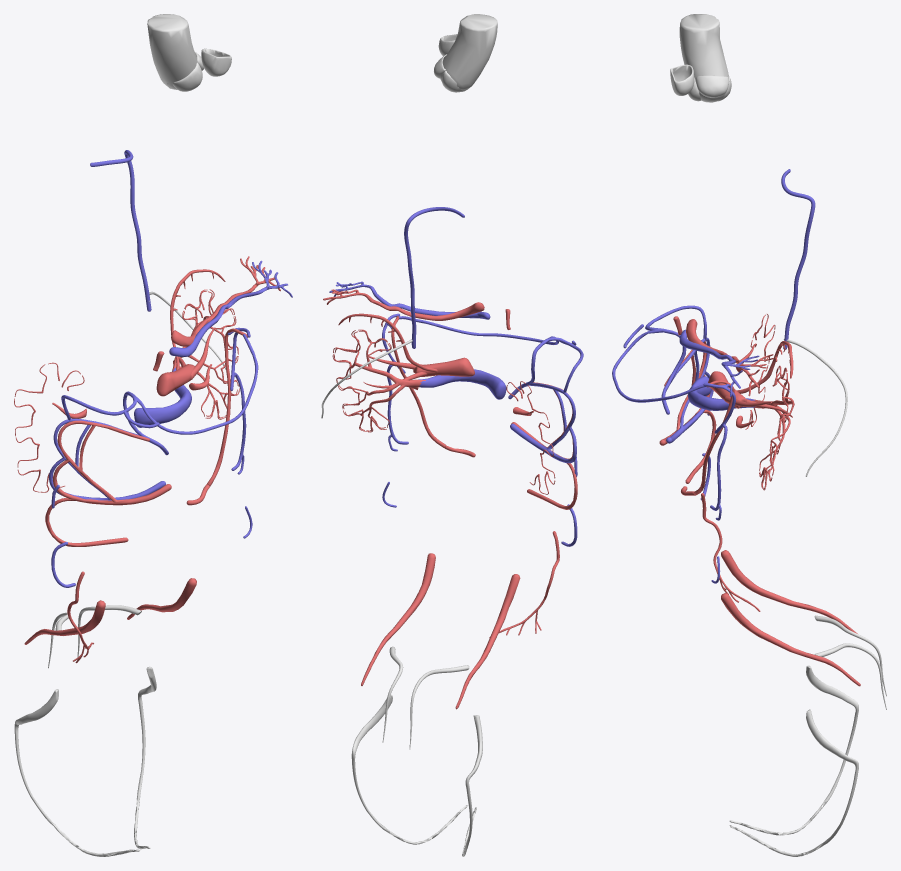
The model's file is 4_Cardiovascular_system (1).glb.
The picture shows the model from 3 angles, left to right: view 1: azimuth 30°, elevation 25°; view 2: azimuth 150°, elevation 25°; view 3: azimuth 270°, elevation 25°; orthographic projection. The views are drawn at different scales.
Visible parts, largest first — view 1: Ascending aorta.001, Right colic artery, Right gastro-omental vein, Descending branch of left colic artery?, Internal pudendal artery.r, Middle colic vein, Splenic vein.001, Left renal vein.001, Hemi-azygos vein, Intrarenal veins of left kidney, Internal pudendal artery.l, Splenic artery.001 (+8 smaller); view 2: Ascending aorta.001, Intrarenal veins of left kidney, Right gastro-omental vein, Middle colic vein, Internal pudendal artery.l, Left renal vein.001, Splenic artery.001, Internal iliac artery.l, Internal iliac artery.r, Descending branch of left colic artery?, Hemi-azygos vein, Left renal artery.001 (+5 smaller); view 3: Ascending aorta.001, Right gastro-omental vein, Internal pudendal artery.r, Internal pudendal artery.l, Internal iliac artery.l, Internal iliac artery.r, Descending branch of left colic artery?, Intrarenal veins of left kidney, Hemi-azygos vein, Splenic vein.001, Left renal vein.001, Middle colic vein (+3 smaller).
Part boxes in pixels (x1,y1,x2,y2): Ascending aorta.001: (147,14,197,89); Right colic artery: (53,420,171,505); Right gastro-omental vein: (61,334,258,455); Descending branch of left colic artery?: (51,327,252,587); Internal pudendal artery.r: (14,689,140,856); Middle colic vein: (49,418,165,500); Splenic vein.001: (169,260,292,356); Left renal vein.001: (134,367,191,427); Hemi-azygos vein: (90,150,151,311); Intrarenal veins of left kidney: (172,291,238,418); Internal pudendal artery.l: (134,666,156,849); Splenic artery.001: (171,256,280,346); Ascending aorta.001: (440,14,497,90); Intrarenal veins of left kidney: (334,330,425,431); Right gastro-omental vein: (398,316,583,399); Middle colic vein: (510,383,576,463); Internal pudendal artery.l: (351,694,467,844); Left renal vein.001: (418,369,506,399); Splenic artery.001: (323,289,484,320); Internal iliac artery.l: (361,553,435,685); Internal iliac artery.r: (455,574,520,709); Descending branch of left colic artery?: (382,313,577,546); Hemi-azygos vein: (404,207,464,348); Left renal artery.001: (413,357,474,376); Ascending aorta.001: (679,14,729,102); Right gastro-omental vein: (612,305,709,414); Internal pudendal artery.r: (729,665,858,835); Internal pudendal artery.l: (729,709,858,856); Internal iliac artery.l: (721,593,860,686); Internal iliac artery.r: (721,550,857,633); Descending branch of left colic artery?: (623,324,735,583); Intrarenal veins of left kidney: (752,366,794,488); Hemi-azygos vein: (781,169,815,349); Splenic vein.001: (679,329,759,396); Left renal vein.001: (688,376,755,410); Middle colic vein: (666,337,713,443).
Bounding box in the file's own units: 0.1739 × 0.5542 × 0.1669.
